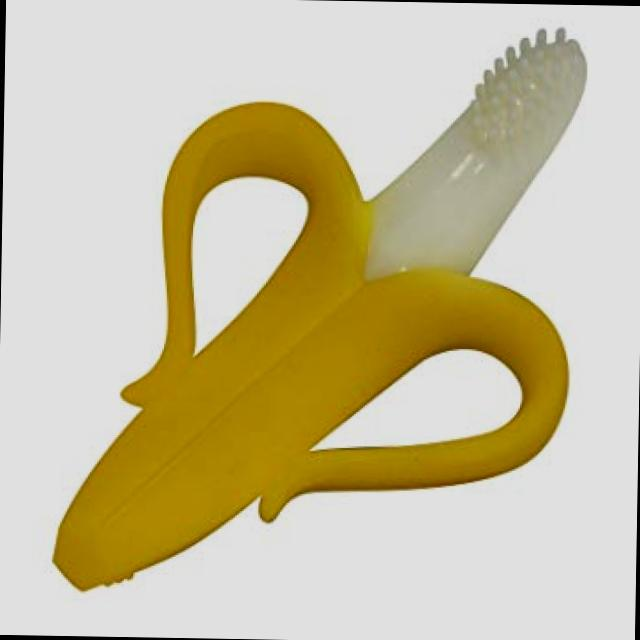banana: (30, 31, 612, 589)
